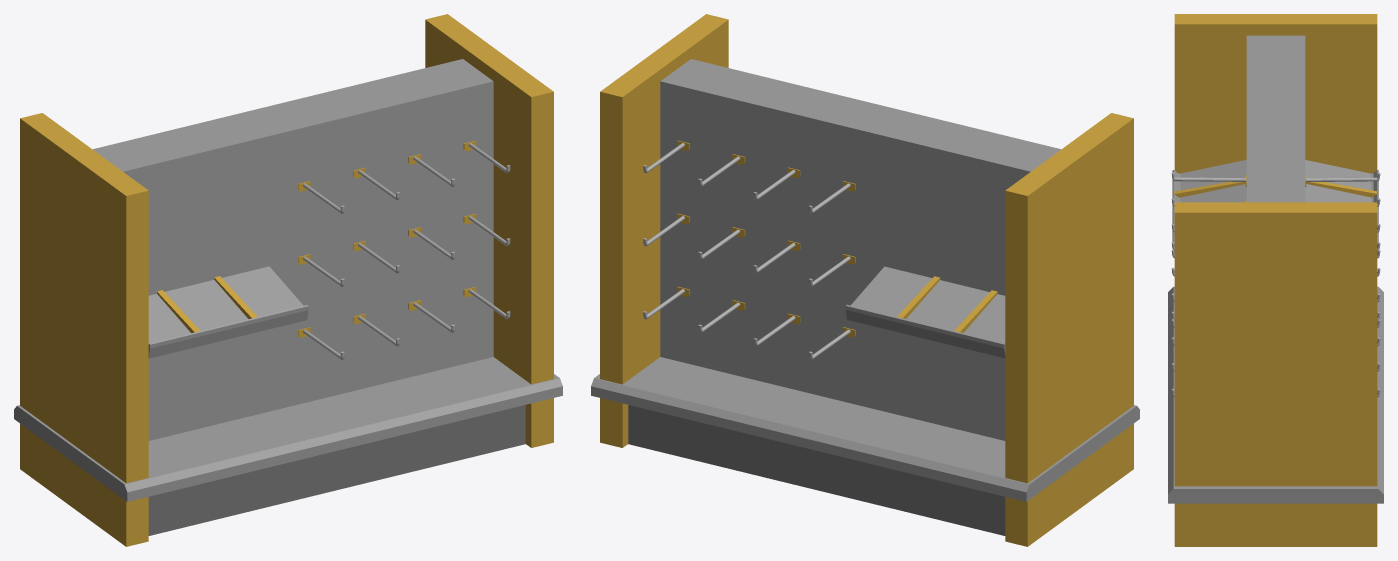
Rendered from ShelfSmall.fbx.
The picture shows the model from 3 angles, left to right: view 1: azimuth 30°, elevation 25°; view 2: azimuth 150°, elevation 25°; view 3: azimuth 270°, elevation 25°; orthographic projection. The views are drawn at different scales.
Parts seen in each view (by area): view 1: Base.001; view 2: Base.001; view 3: Base.001.
Boxes of the visible parts, x1,y1,x2,y2 form: Base.001: (14,14,562,546); Base.001: (591,14,1139,546); Base.001: (1168,14,1383,546).
Size of the model in its own units: 282 by 217 by 127.
